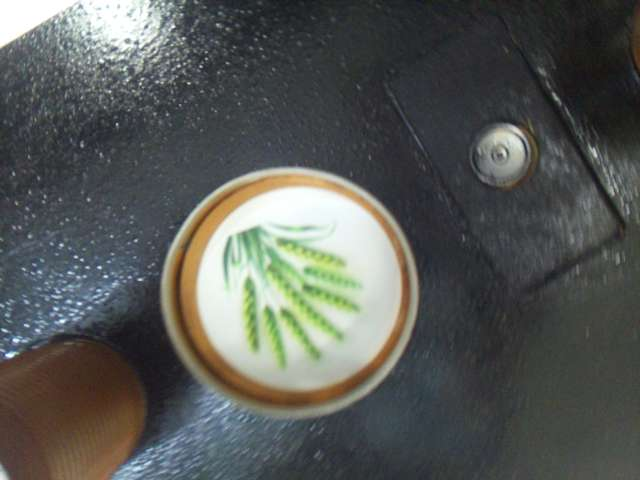wheat_barrel: (199, 189, 401, 391)
